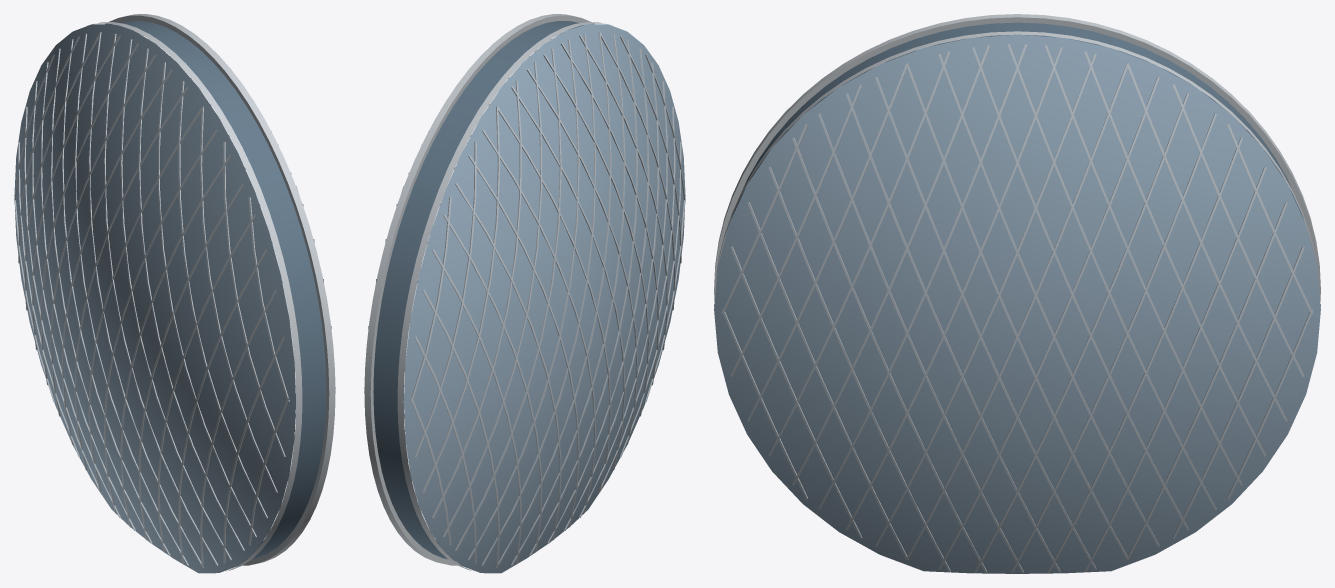
The model's file is abu-dhabi-aldar-hq.glb.
3 renders of one model, left to right at view 1: azimuth 30°, elevation 25°; view 2: azimuth 150°, elevation 25°; view 3: azimuth 270°, elevation 25°, orthographic. The views are drawn at different scales.
Visible parts, largest first — view 1: Aldar Headquarters; view 2: Aldar Headquarters; view 3: Aldar Headquarters.
Part boxes in pixels (x1,y1,x2,y2): Aldar Headquarters: [14, 14, 335, 573]; Aldar Headquarters: [364, 14, 685, 573]; Aldar Headquarters: [714, 14, 1320, 573].
Bounding box in the file's own units: 36.65 × 121 × 124.
